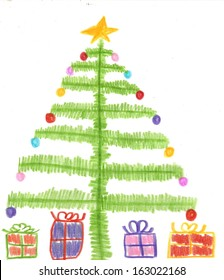star: (79, 14, 119, 46)
tree: (5, 37, 200, 261)
